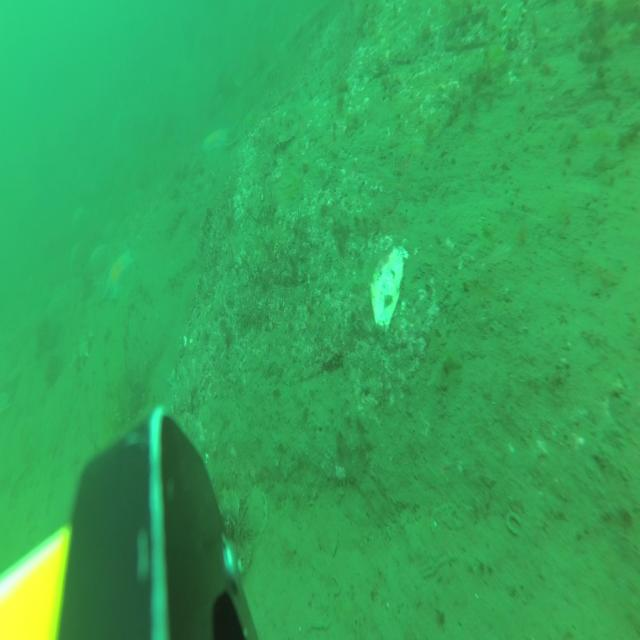holothurian: (73, 330, 93, 372)
starfish: (104, 247, 134, 304), (201, 129, 229, 156)
